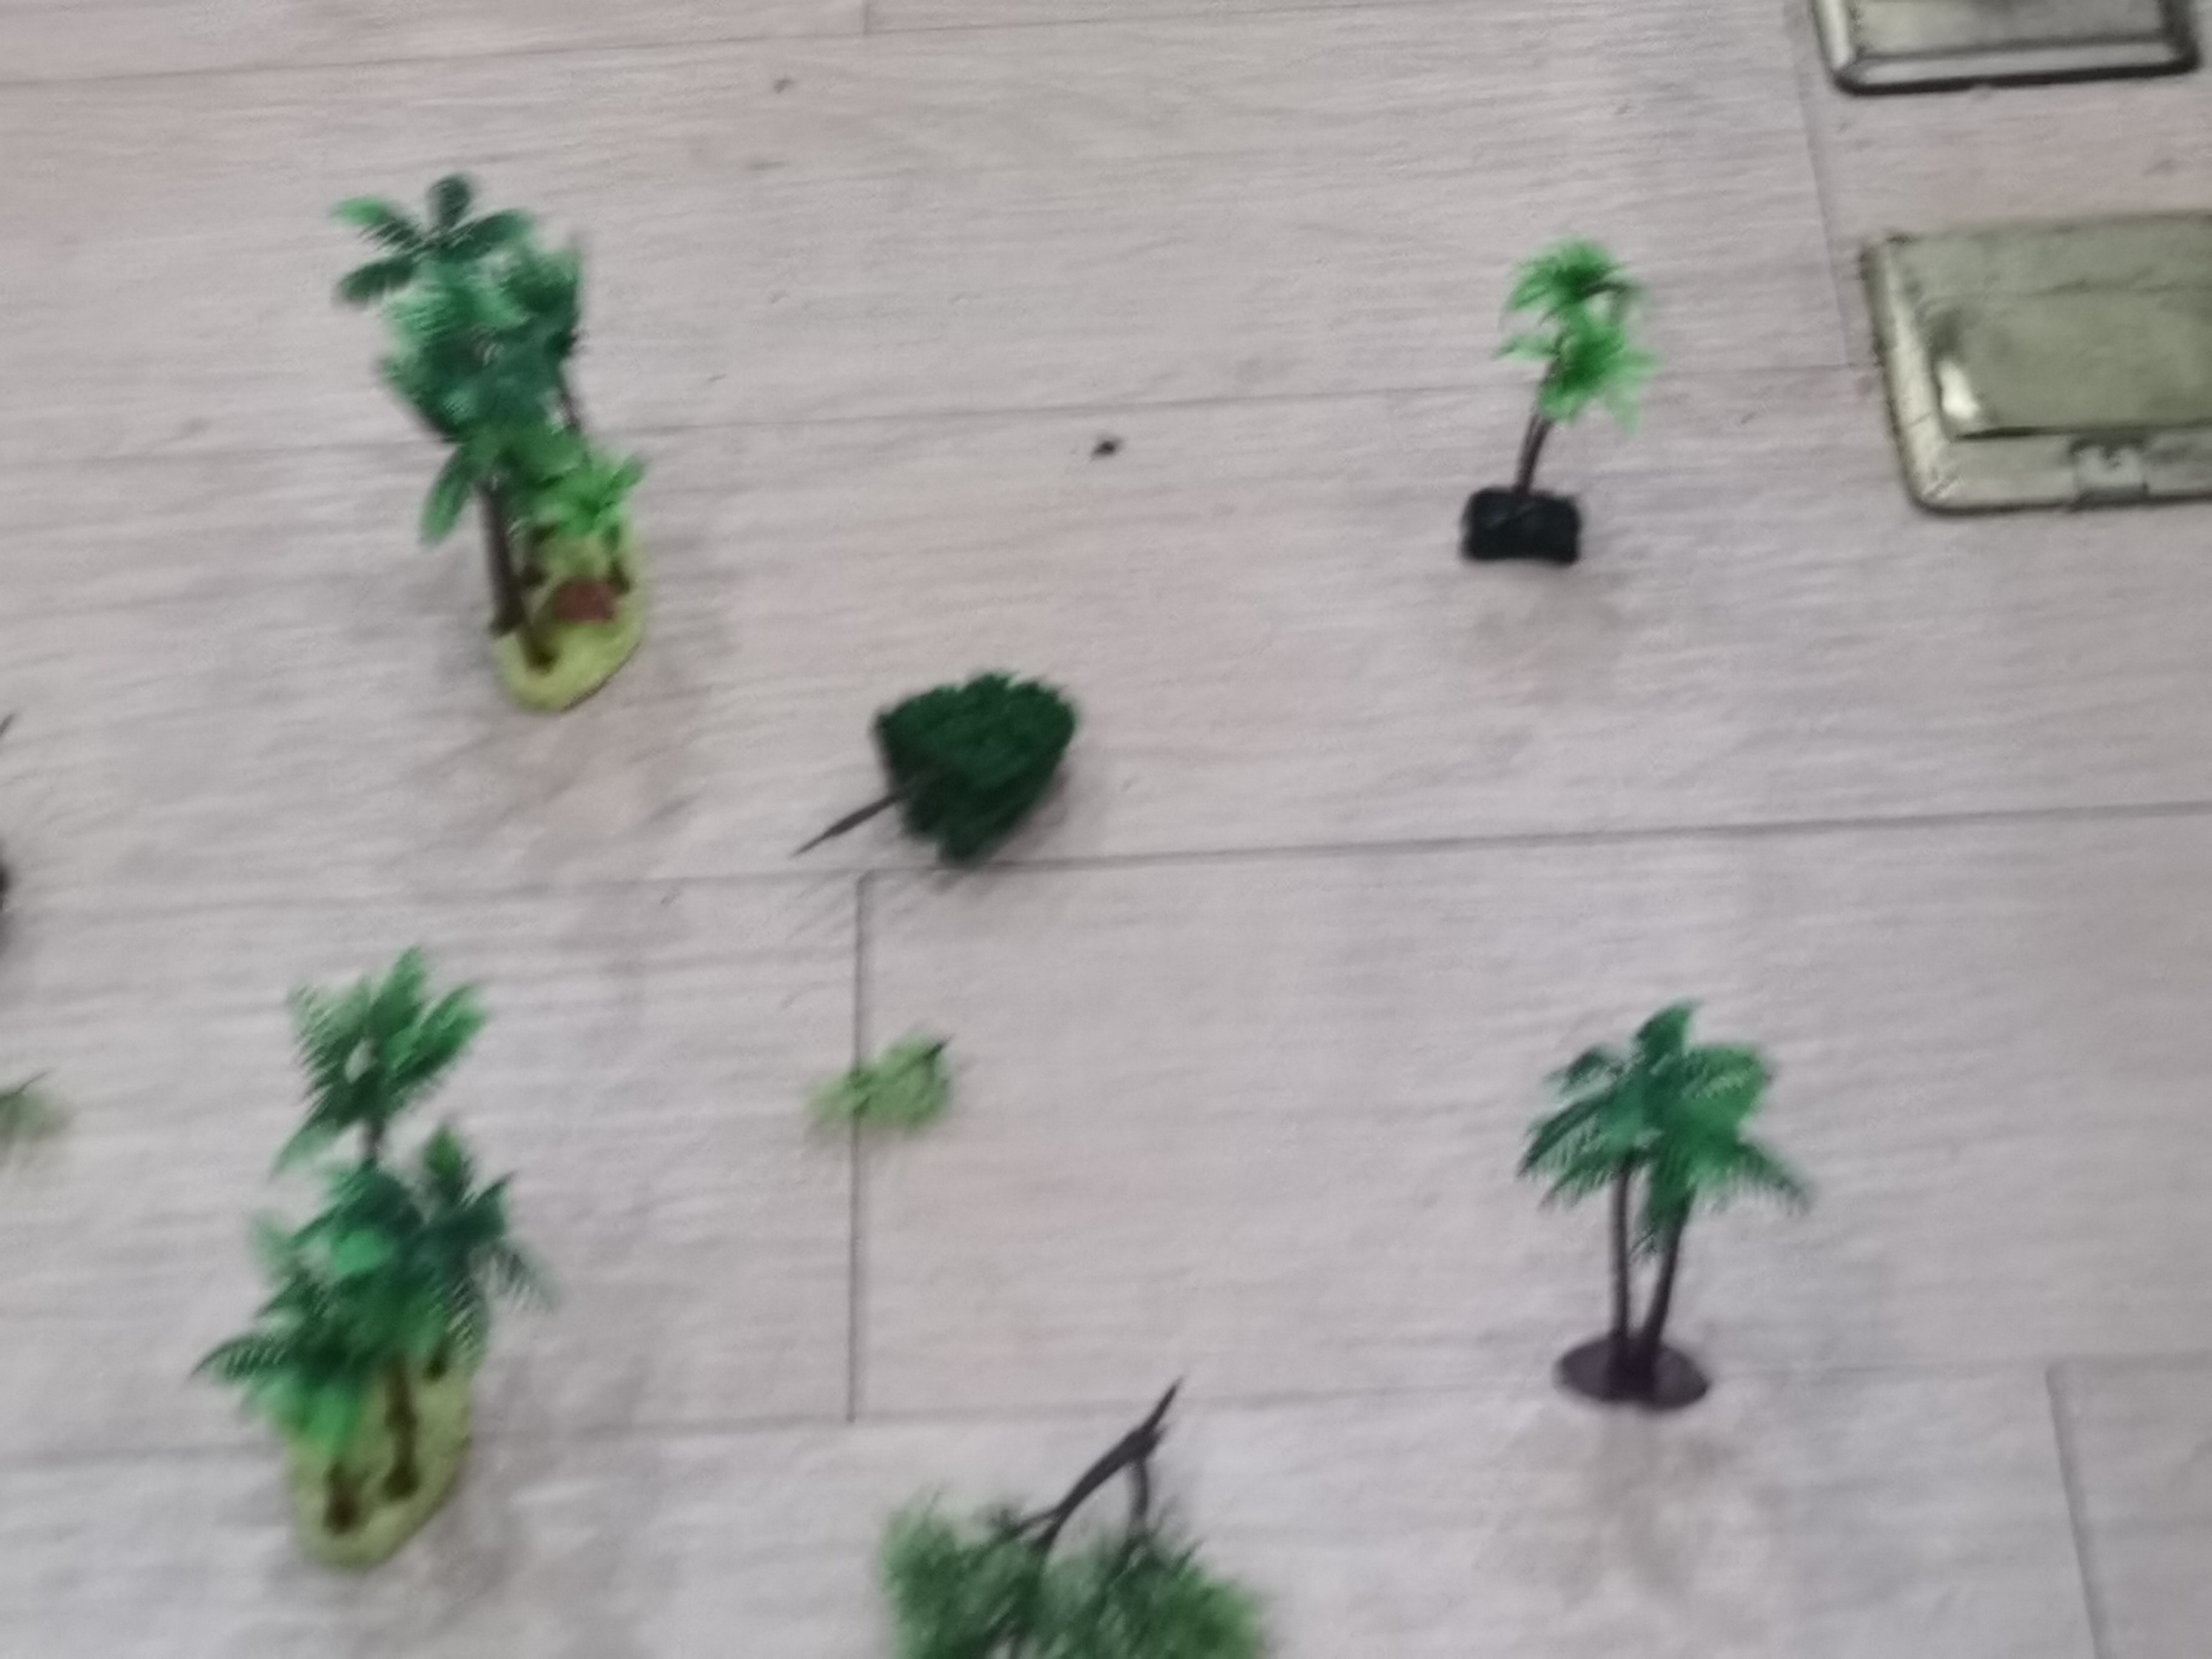corn: (197, 948, 559, 1556), (320, 167, 658, 713), (1514, 990, 1810, 1408), (1432, 242, 1653, 563)
